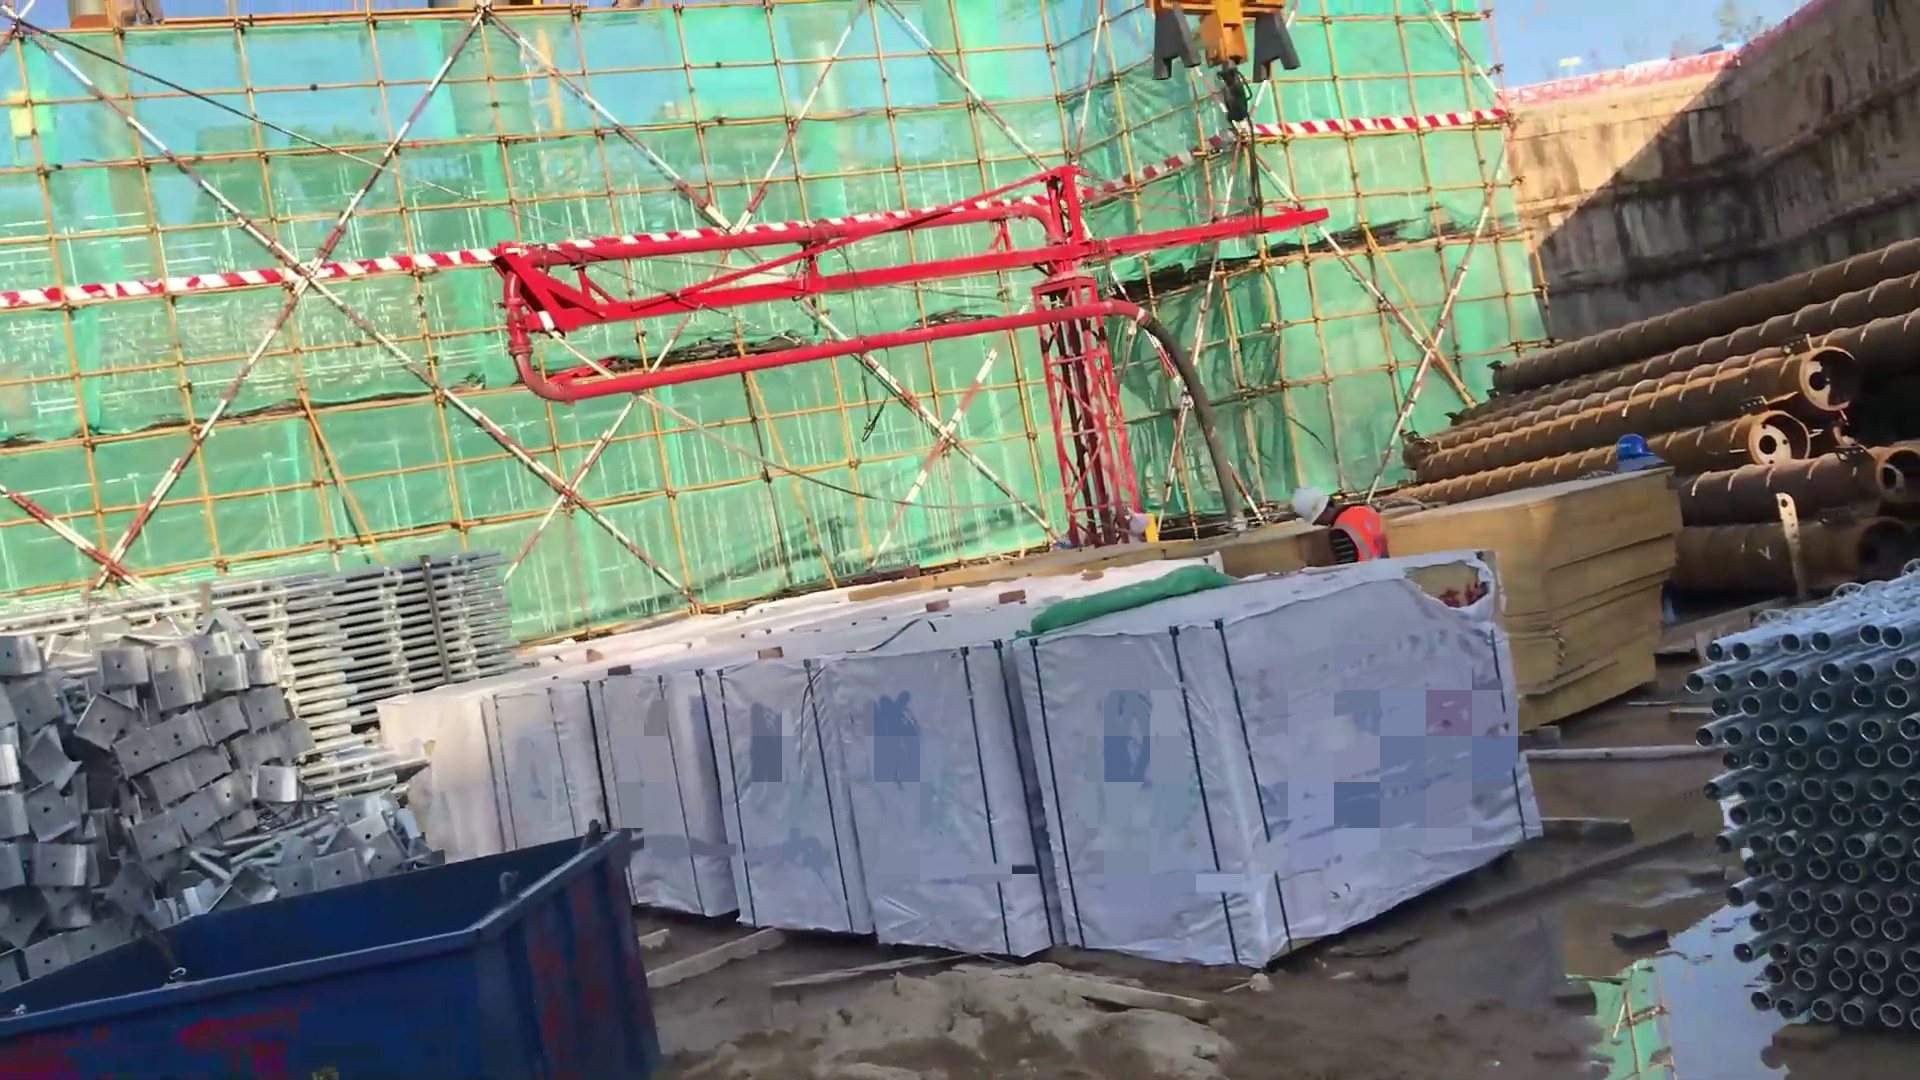board: (1377, 465, 1694, 741)
ebox: (1134, 506, 1166, 553)
helmet: (1608, 431, 1668, 473), (1290, 486, 1334, 533)
hopper: (1, 813, 686, 1079)
person: (1283, 470, 1397, 593)
scaffold: (1687, 581, 1920, 1028), (1, 534, 311, 712), (288, 532, 515, 745)
vest: (1316, 504, 1395, 566)
